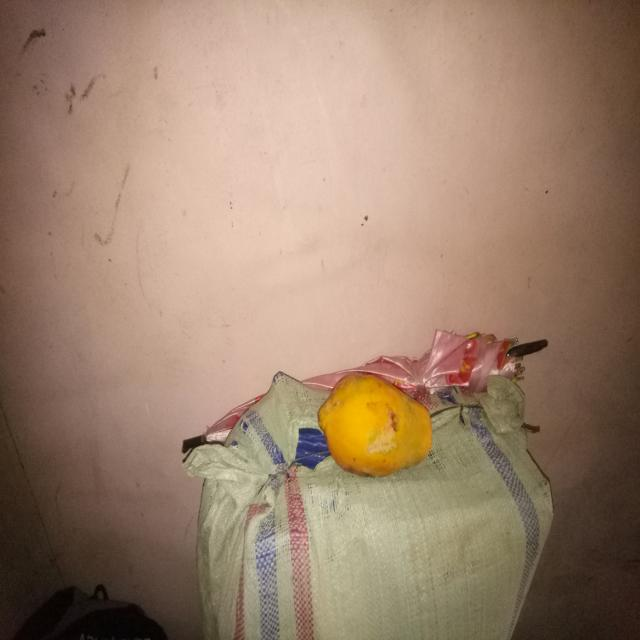Pepaya rippen: (318, 373, 435, 475)
